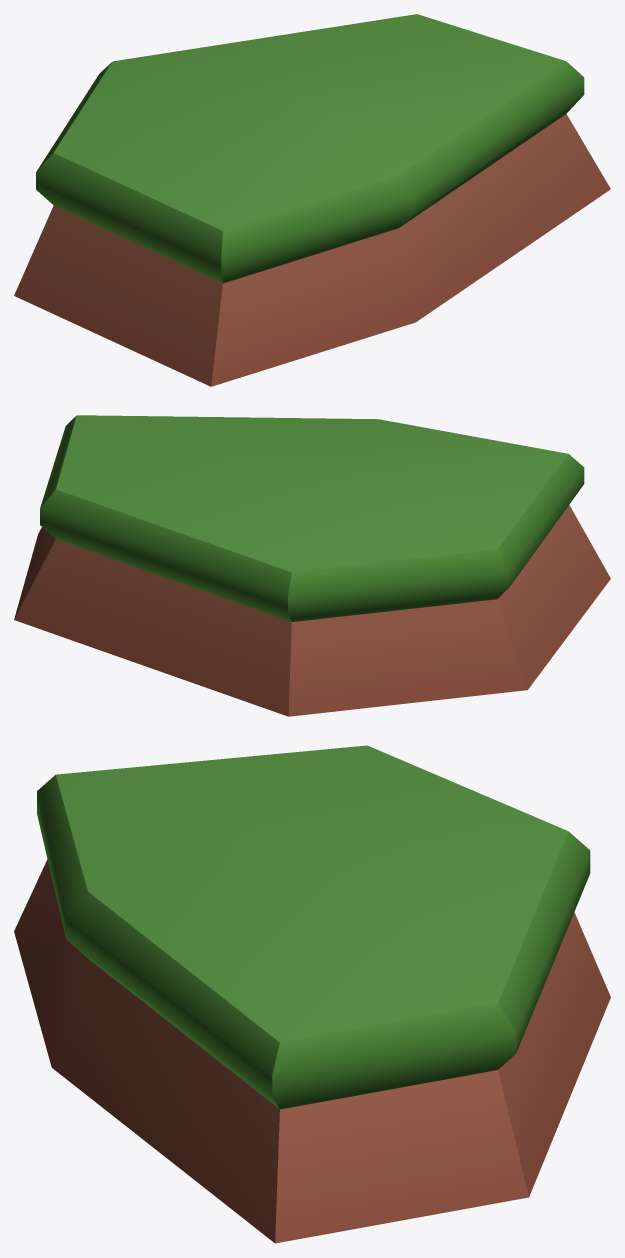
File: hill_mound.glb
The picture shows the model from 3 angles, top to bottom: view 1: azimuth 30°, elevation 25°; view 2: azimuth 150°, elevation 25°; view 3: azimuth 270°, elevation 25°; orthographic projection. The views are drawn at different scales.
Parts seen in each view (by area): view 1: hill_mound; view 2: hill_mound; view 3: hill_mound.
Part boxes in pixels (x1=…): hill_mound: x1=14, y1=14, x2=610, y2=386; hill_mound: x1=14, y1=415, x2=610, y2=716; hill_mound: x1=14, y1=745, x2=610, y2=1243.
Size of the model in its own units: 15.17 by 4.2 by 11.06.
1 material, 1 textured.
